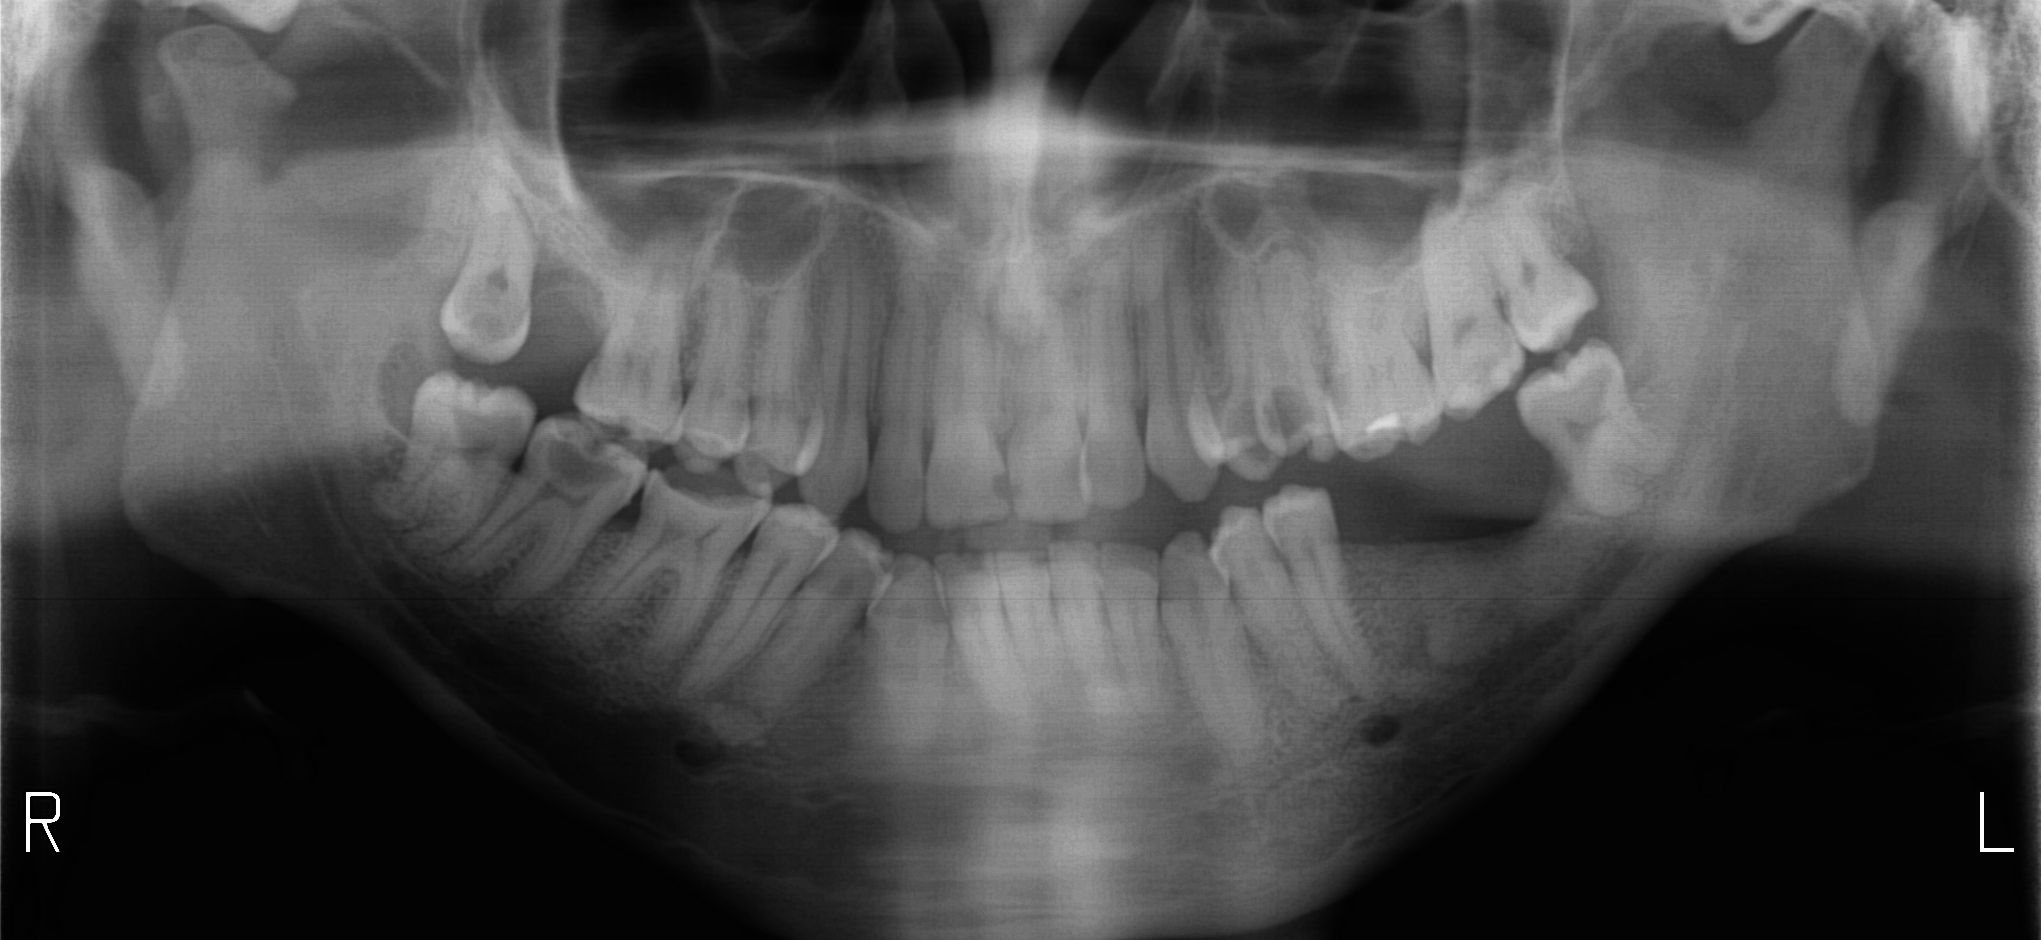cavity: (450, 398, 521, 454), (548, 437, 620, 480), (659, 473, 758, 501), (1224, 398, 1263, 457), (1272, 389, 1306, 439), (989, 471, 1007, 504), (1014, 488, 1020, 500)
